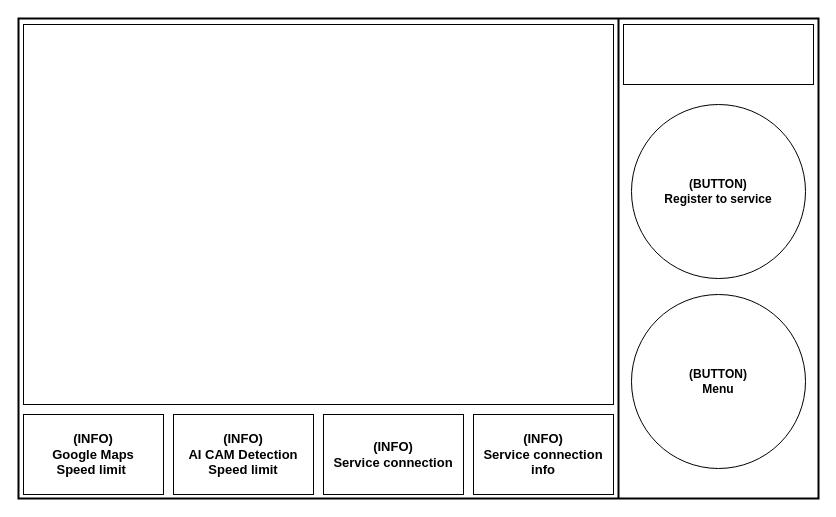
This 836x517 diagram has some shape labels left out. Each missing label, with the box of its shape:
(BUTTON) Wifi Connection: (622, 24, 814, 84)
Forward warning detection: (22, 24, 614, 404)
